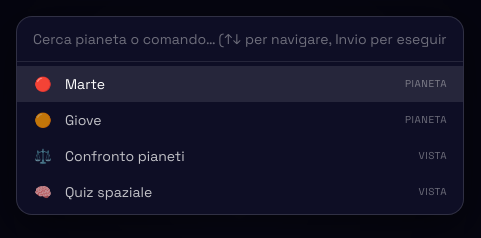
Test case: CommandPalette › filtra per query
Replace the text in the search field named "Cerca comando" with "mar" at (240, 40), box x1=17 y1=17 x2=463 y2=62
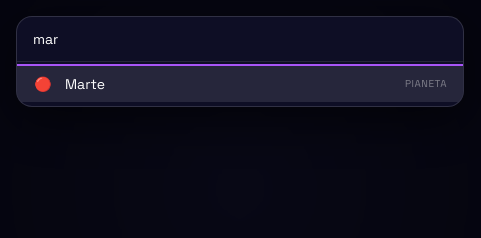
Expected: the text "Marte" is shown, x1=65 y1=75 x2=105 y2=93
Result: the option "Giove" is gone
